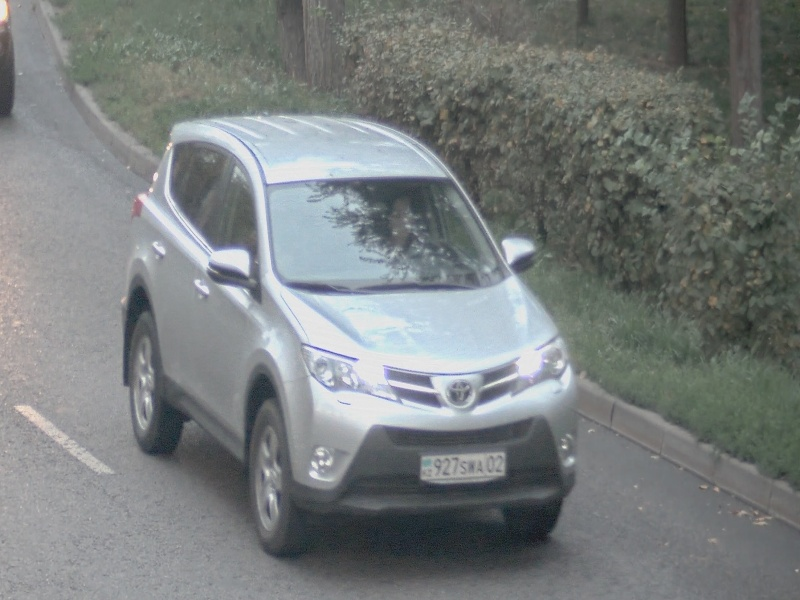plate: (417, 447, 509, 484)
